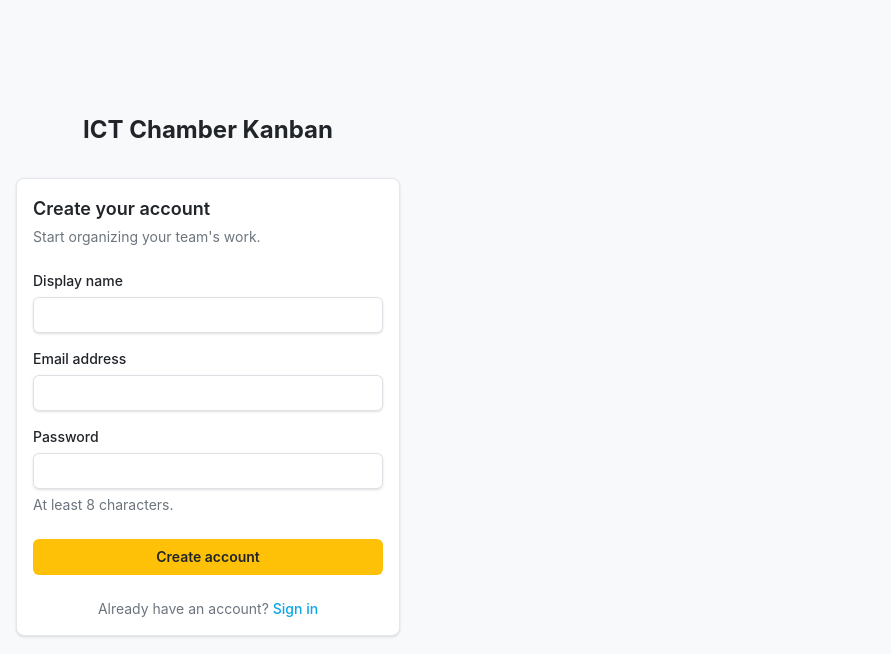
Test case: RegisterPage › shows an error toast when the email is already registered
Step 1. Type "Jane Again" into the field labelled "Display name" → (208, 315), box 33,297 -> 383,333
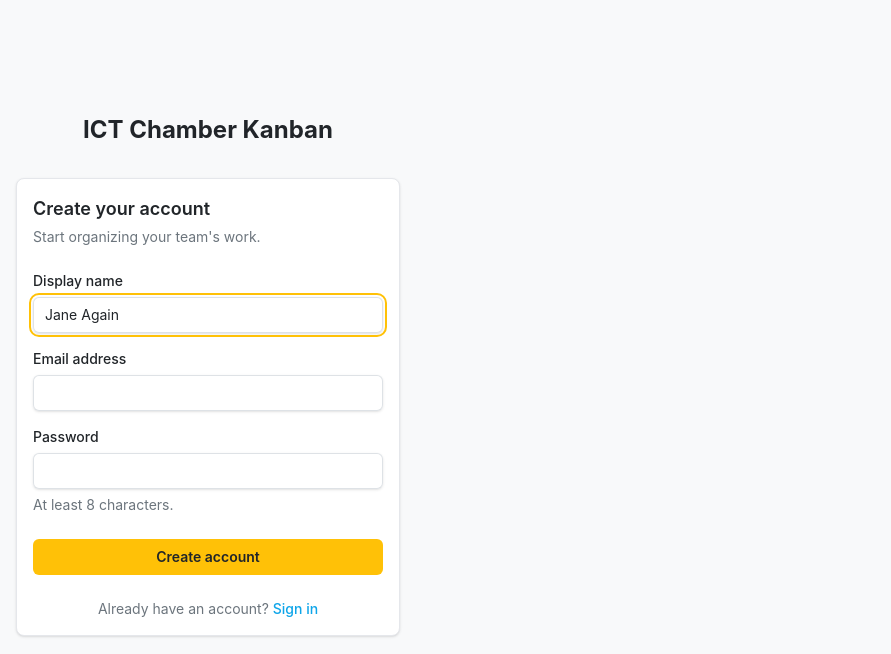
Step 2. Type "jane@example.com" into the field labelled "Email address" → (208, 393), box 33,375 -> 383,411
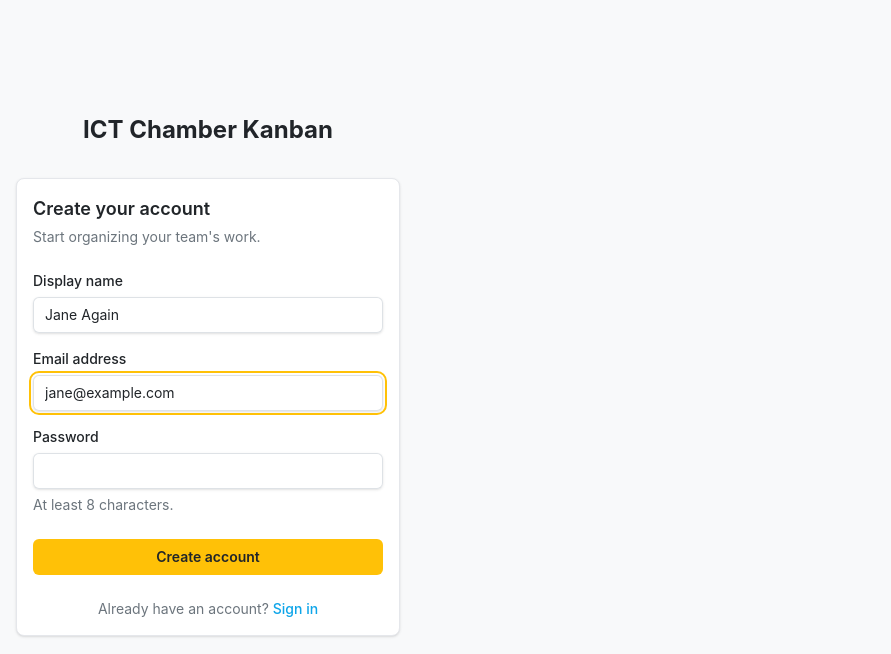
Step 3. Type "another-password" into the password field labelled "Password" → (208, 471), box 33,453 -> 383,489
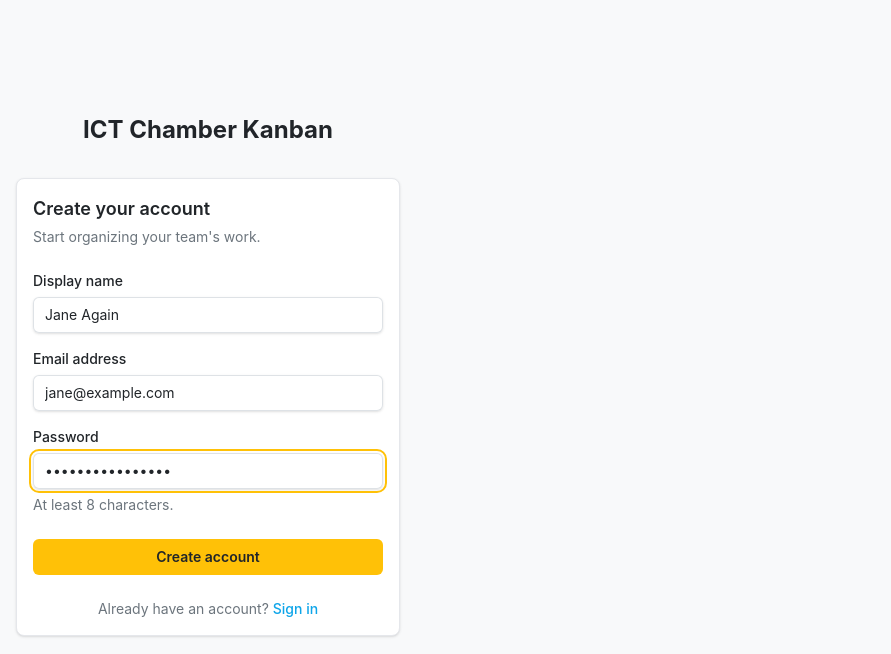
Step 4. Click the button "Create account" → (208, 557), box 33,539 -> 383,575
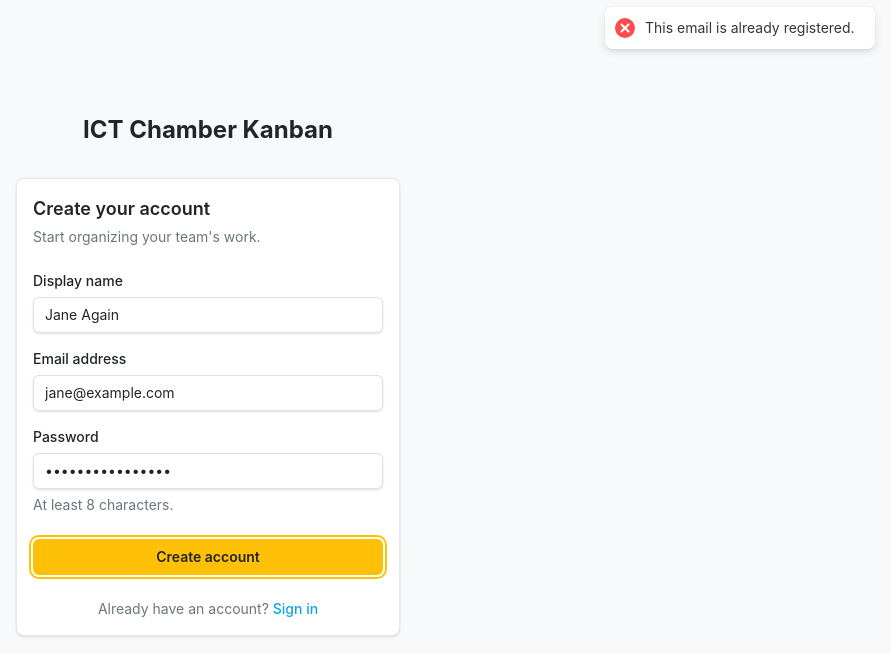
Expected: the text "This email is already registered." is shown, 645,19 -> 855,37
